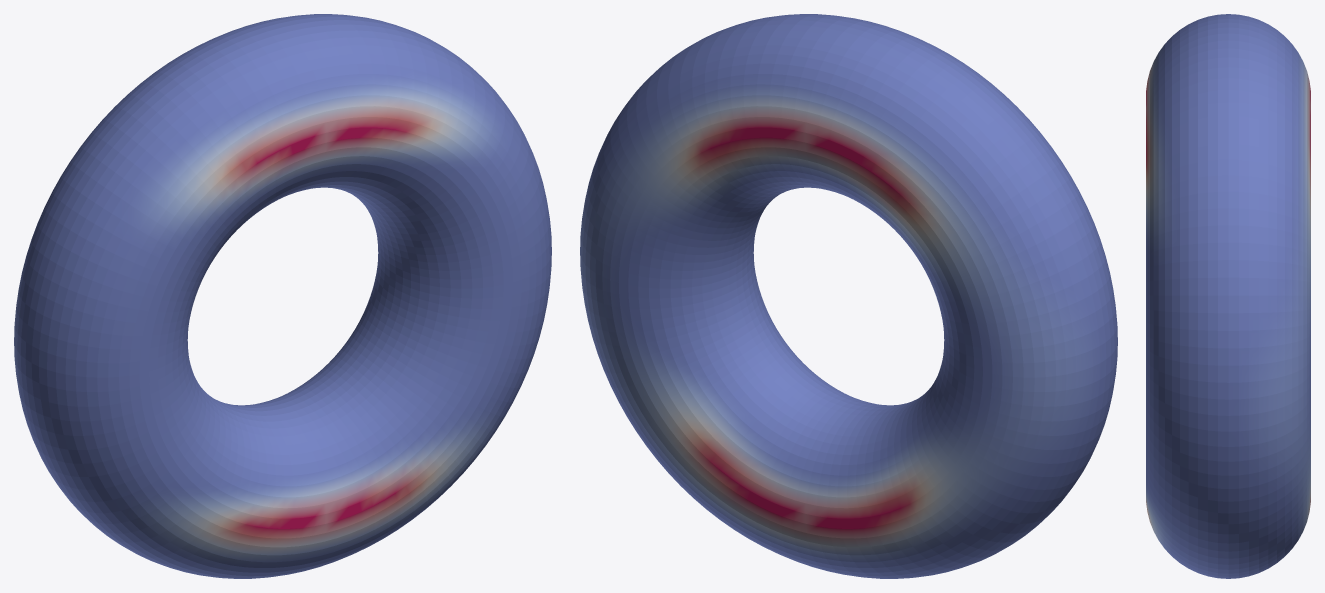
3 renders of one model, left to right at view 1: azimuth 30°, elevation 25°; view 2: azimuth 150°, elevation 25°; view 3: azimuth 270°, elevation 25°, orthographic. The views are drawn at different scales.
Parts seen in each view (by area): view 1: world; view 2: world; view 3: world.
Part boxes in pixels (box(x1,y1,x2,y2)): world: box(14, 14, 551, 578); world: box(580, 14, 1117, 578); world: box(1146, 14, 1310, 578).
Bounding box in the file's own units: 14.13 × 14.13 × 4.13.
